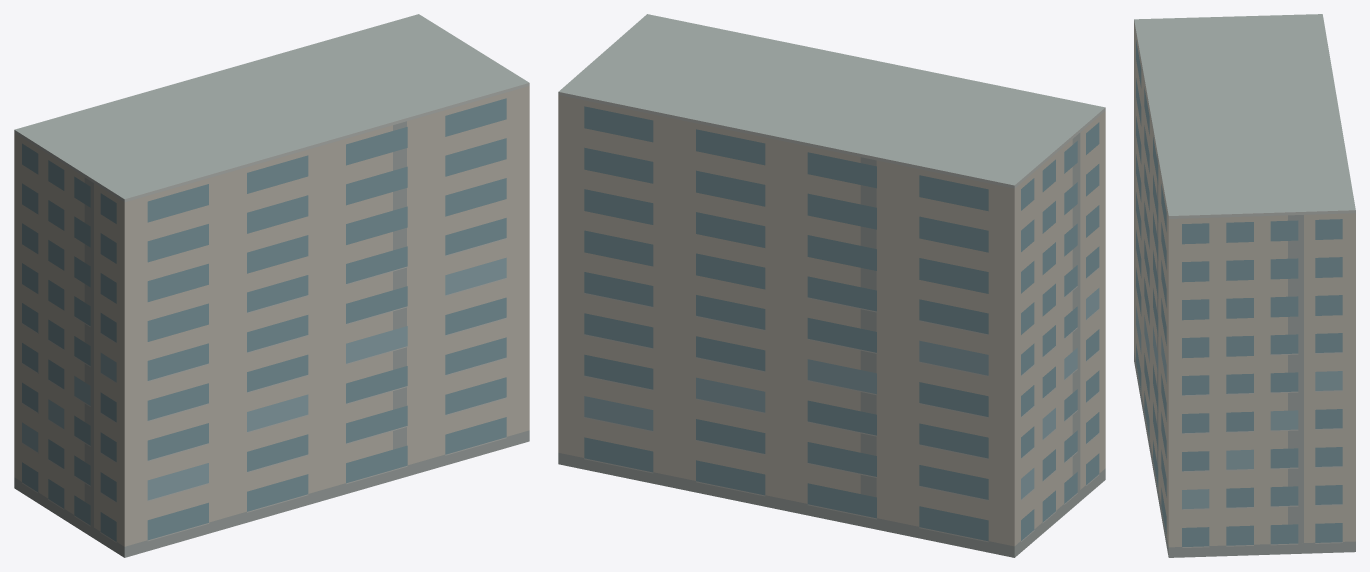
The model's file is residential-547cc848-06a3-4810-8fc8-3ae9591d47b2.glb.
3 views of the same model, side by side, from view 1: azimuth 30°, elevation 25°; view 2: azimuth 150°, elevation 25°; view 3: azimuth 270°, elevation 25° (orthographic). The views are drawn at different scales.
Parts seen in each view (by area): view 1: residential-547cc848-06a3-4810-8fc8-3ae9591d47b2.tmp; view 2: residential-547cc848-06a3-4810-8fc8-3ae9591d47b2.tmp; view 3: residential-547cc848-06a3-4810-8fc8-3ae9591d47b2.tmp.
Boxes of the visible parts, box(x1,y1,x2,y2) form: residential-547cc848-06a3-4810-8fc8-3ae9591d47b2.tmp: box(14, 14, 529, 557); residential-547cc848-06a3-4810-8fc8-3ae9591d47b2.tmp: box(558, 14, 1105, 557); residential-547cc848-06a3-4810-8fc8-3ae9591d47b2.tmp: box(1134, 14, 1355, 557).
Size of the model in its own units: 35.52 by 28 by 16.48.
